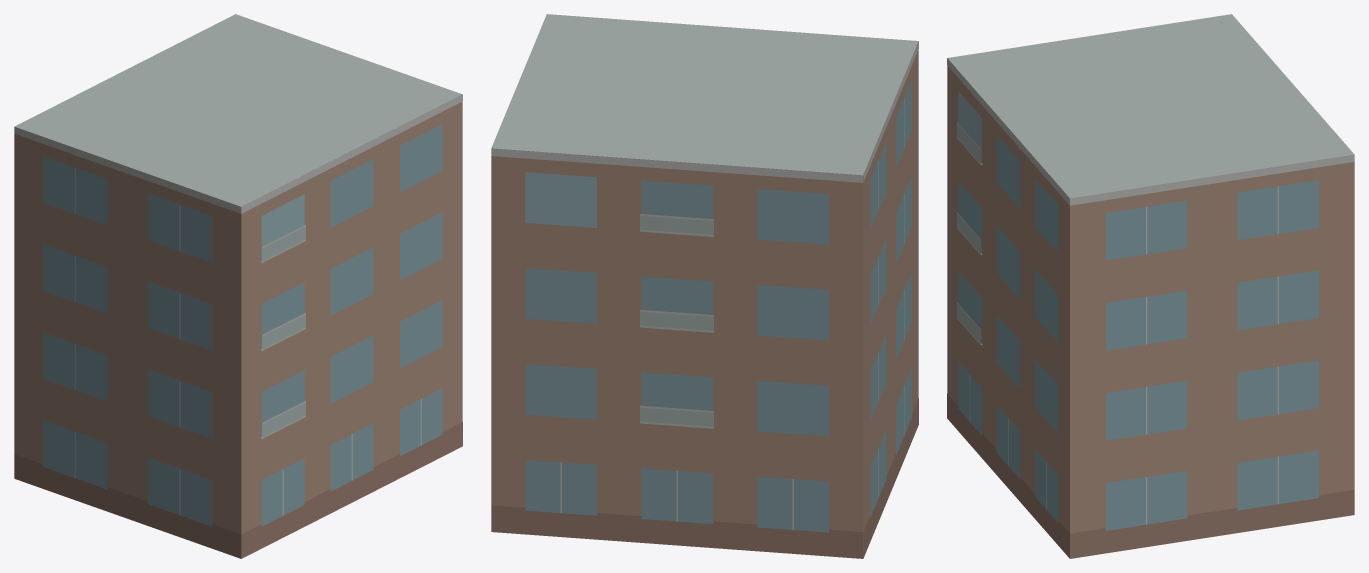
The model's file is survey-upis-32800208.glb.
3 views of the same model, side by side, from view 1: azimuth 30°, elevation 25°; view 2: azimuth 150°, elevation 25°; view 3: azimuth 270°, elevation 25° (orthographic). The views are drawn at different scales.
Parts seen in each view (by area): view 1: survey-upis-32800208.tmp; view 2: survey-upis-32800208.tmp; view 3: survey-upis-32800208.tmp.
Boxes of the visible parts, x1,y1,x2,y2 form: survey-upis-32800208.tmp: [14, 14, 462, 558]; survey-upis-32800208.tmp: [491, 14, 918, 558]; survey-upis-32800208.tmp: [947, 14, 1354, 558].
Size of the model in its own units: 13.41 by 12.2 by 12.51.
